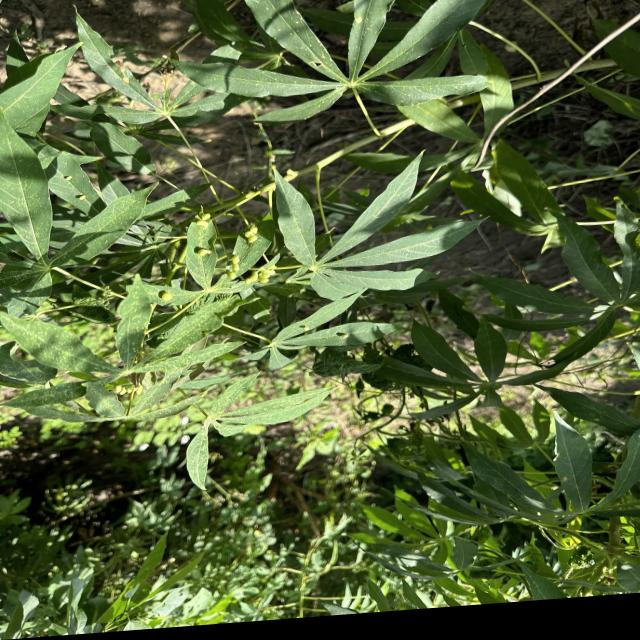Mosca: (243, 261, 284, 291), (191, 206, 218, 234), (241, 218, 263, 248), (226, 251, 241, 284), (155, 286, 177, 305), (73, 190, 89, 205), (194, 245, 213, 257), (338, 328, 354, 340), (300, 321, 312, 333), (60, 172, 74, 182)
